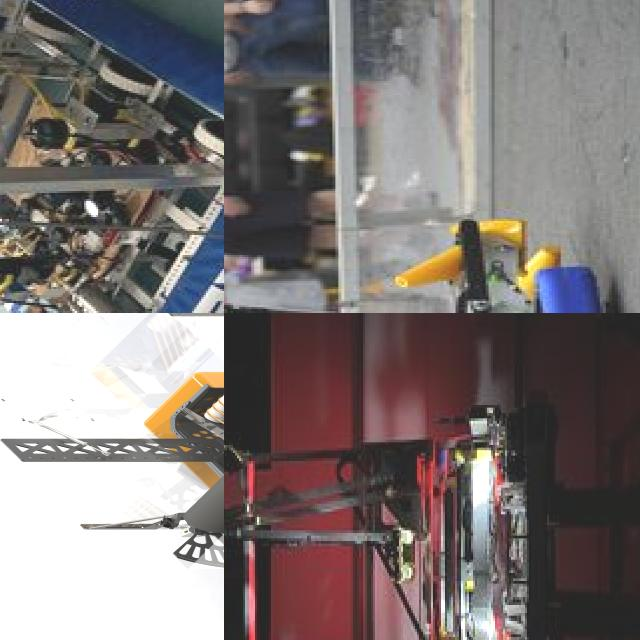FRC-Robots: (224, 337, 588, 640), (3, 313, 224, 640), (0, 0, 224, 313), (224, 216, 635, 313)
